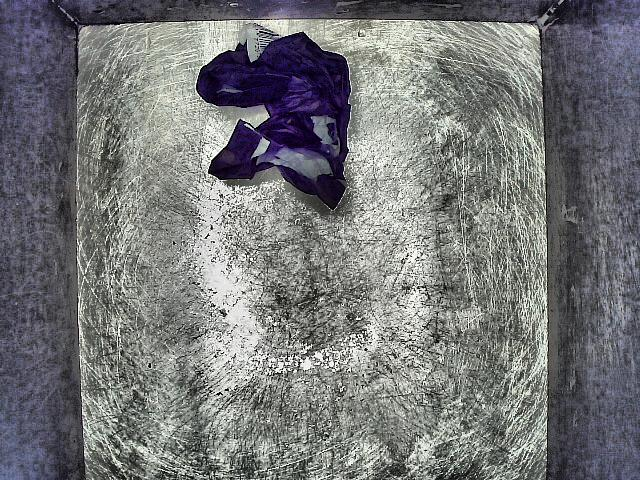Paper: (175, 10, 379, 221)
